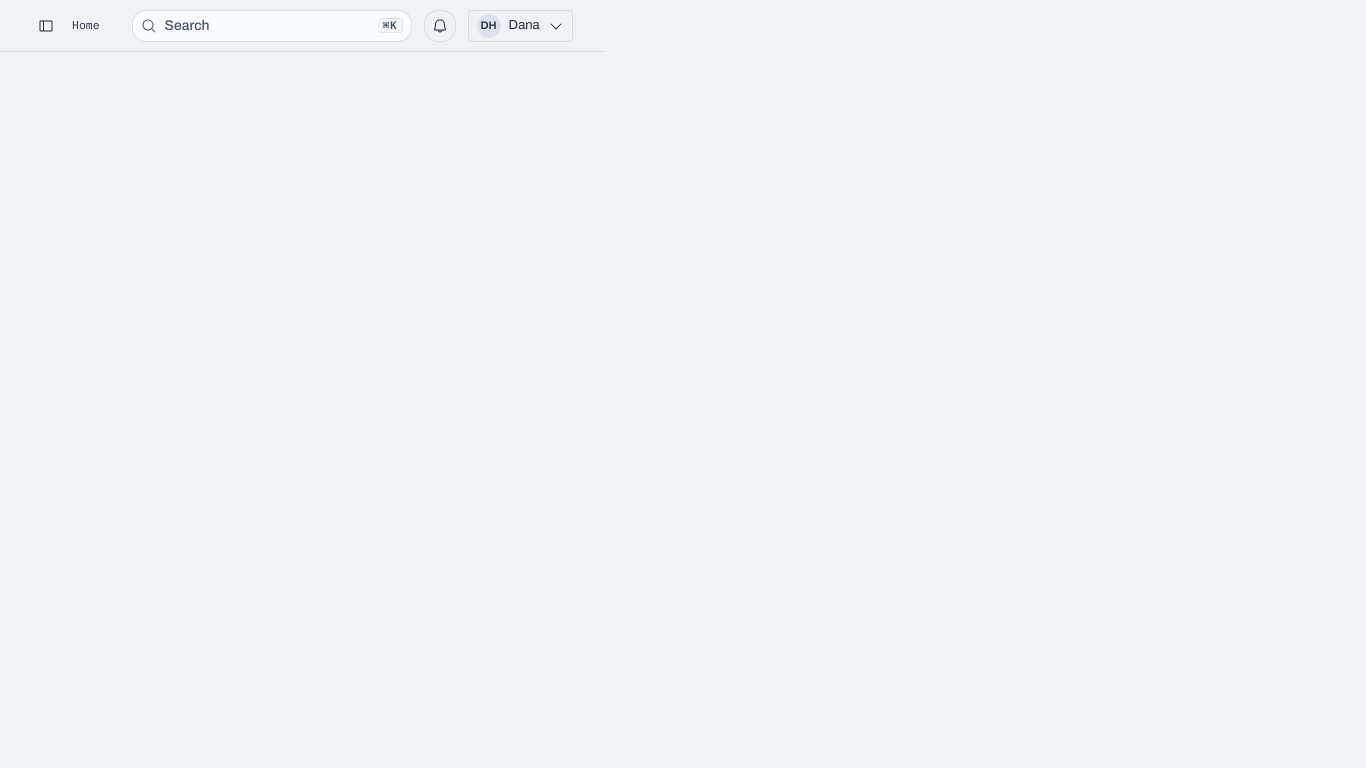
Test: the account chip › opens the account sheet for the owner console
Click the button with aria-label "Admin account" at (520, 26), box [468,10,573,42]
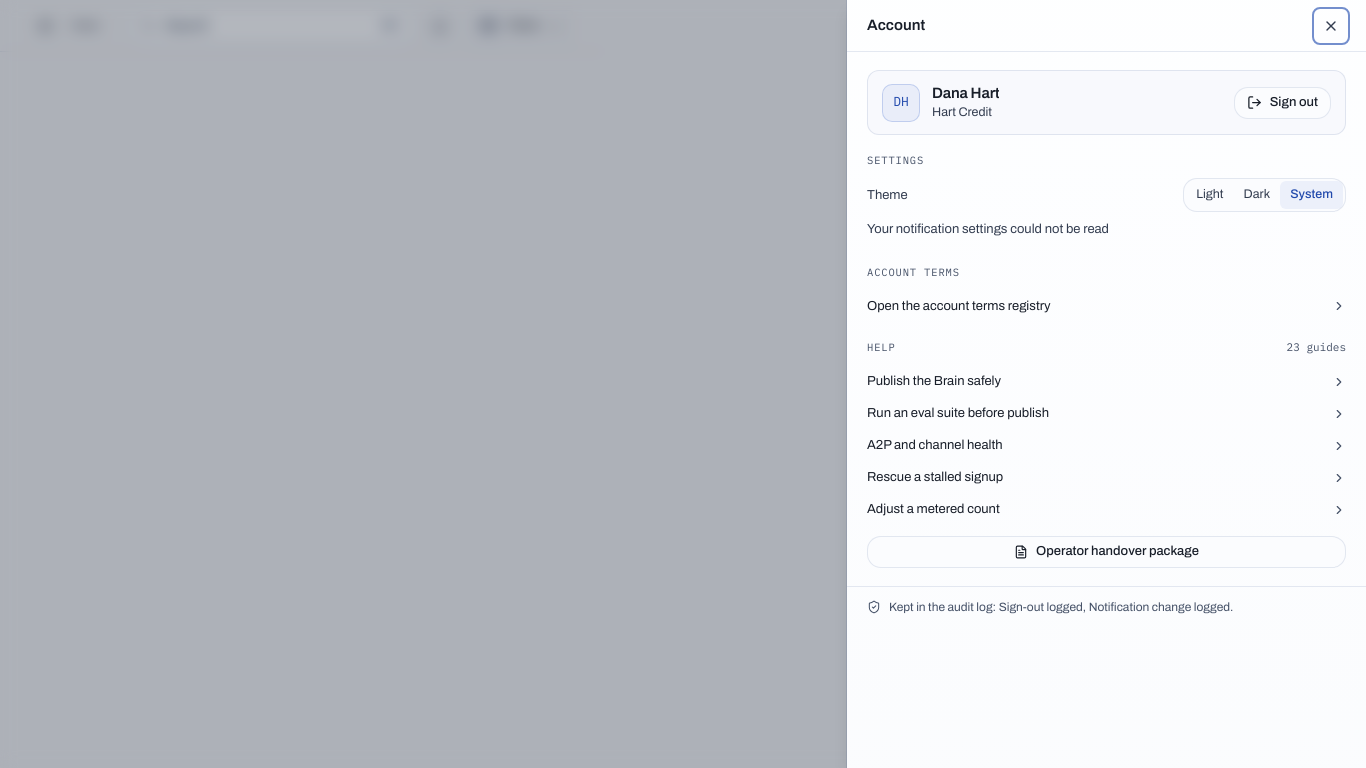
Check: the dialog is shown, box [846,0,1365,767]
